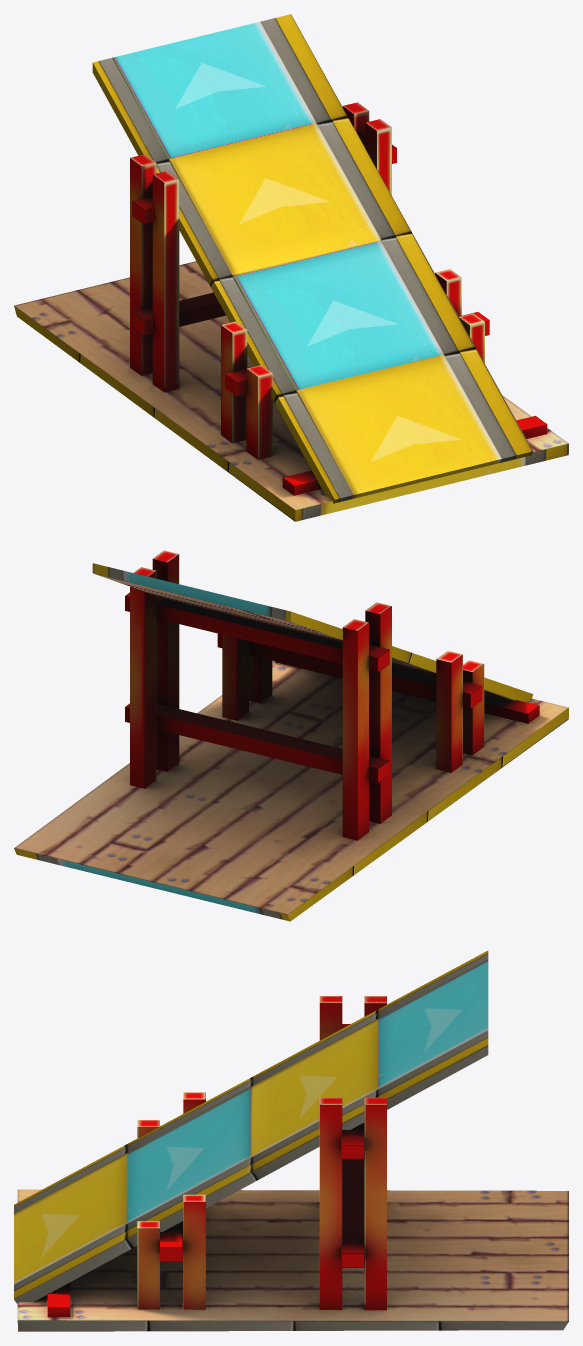
The model's file is ramp.FBX.
3 views of the same model, one above another, from view 1: azimuth 30°, elevation 25°; view 2: azimuth 150°, elevation 25°; view 3: azimuth 270°, elevation 25° (orthographic). The views are drawn at different scales.
Parts seen in each view (by area): view 1: modelBoardUp; view 2: modelBoardUp; view 3: modelBoardUp.
Part boxes in pixels (<box>): modelBoardUp: <box>14,14,568,521</box>; modelBoardUp: <box>14,550,568,921</box>; modelBoardUp: <box>14,950,568,1331</box>.
Bounding box in the file's own units: 191 × 183 × 342.
